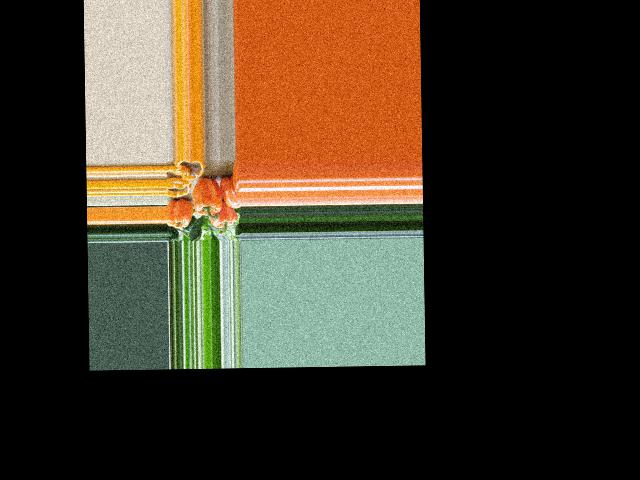bell_pepper: (220, 174, 240, 209)
